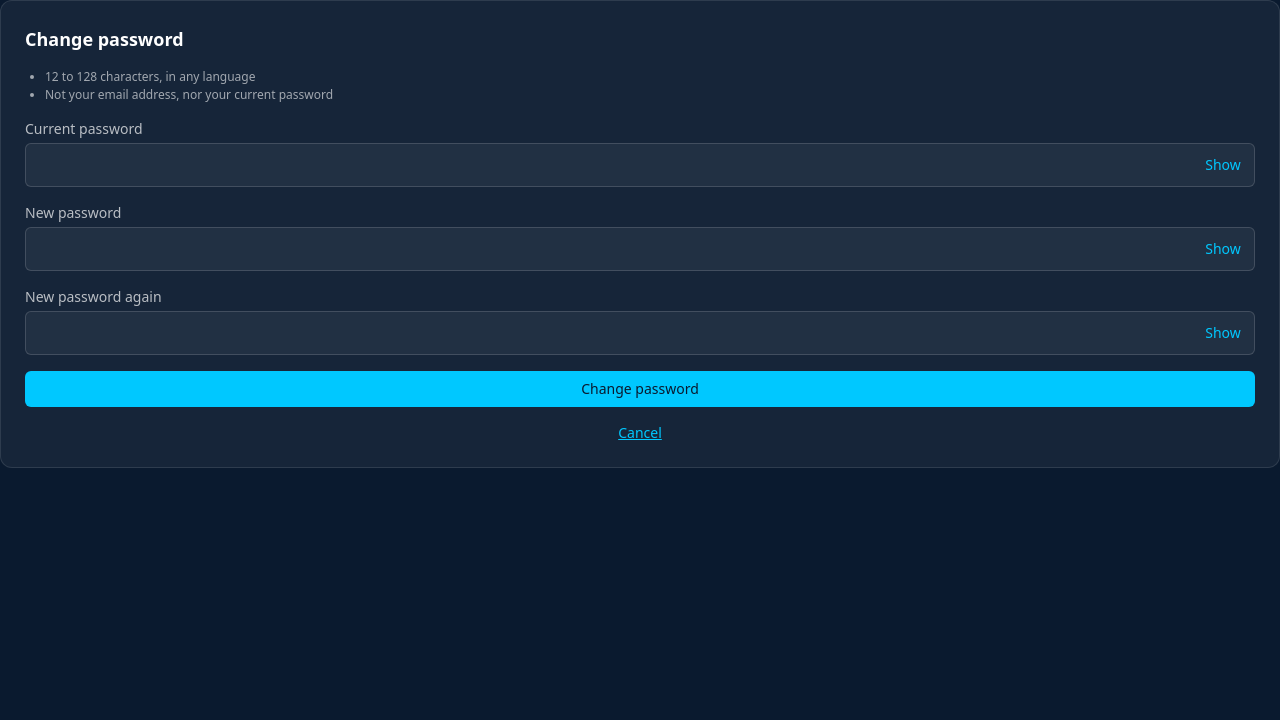
Test: ChangePasswordForm › checks the two new passwords match before sending
expect the list named "Password rules" is shown: met, box [45,68,333,103]
In the password field labelled "Current password": (640, 165) [25,143,1255,187], type "Sup3rSecret!"
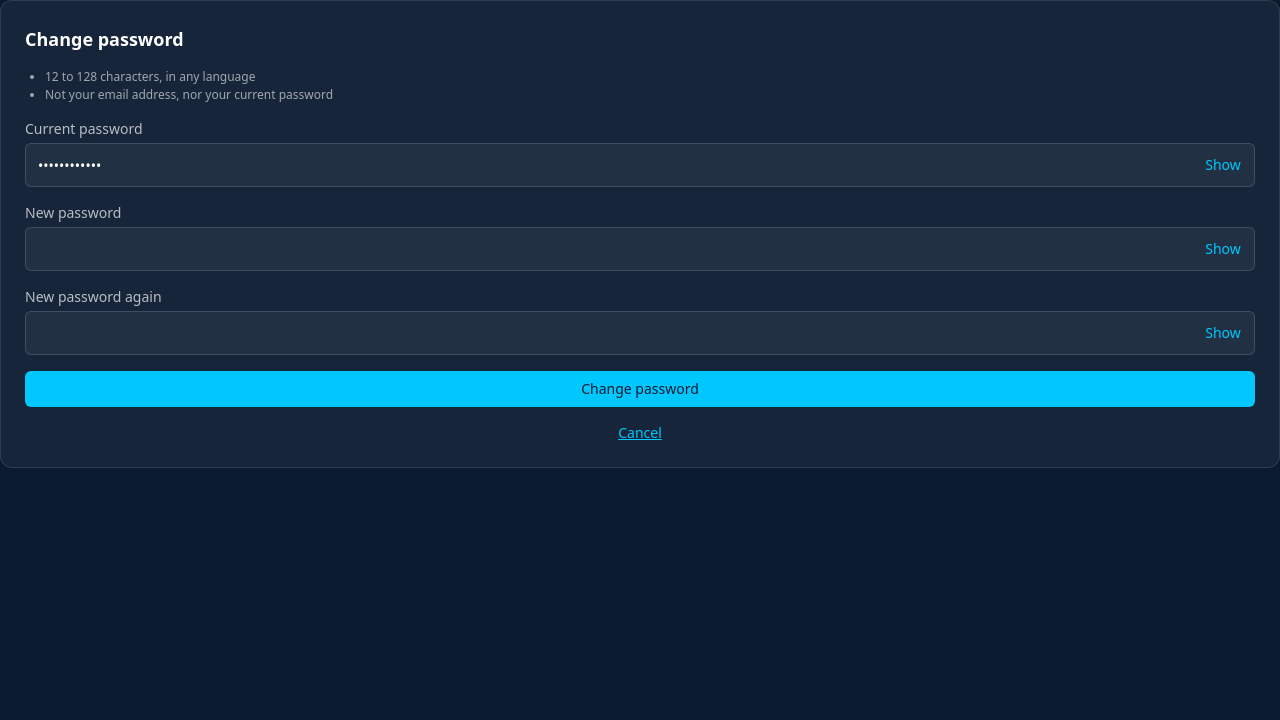
In the password field labelled "New password": (640, 249) [25,227,1255,271], type "A-new-passphrase-2026"
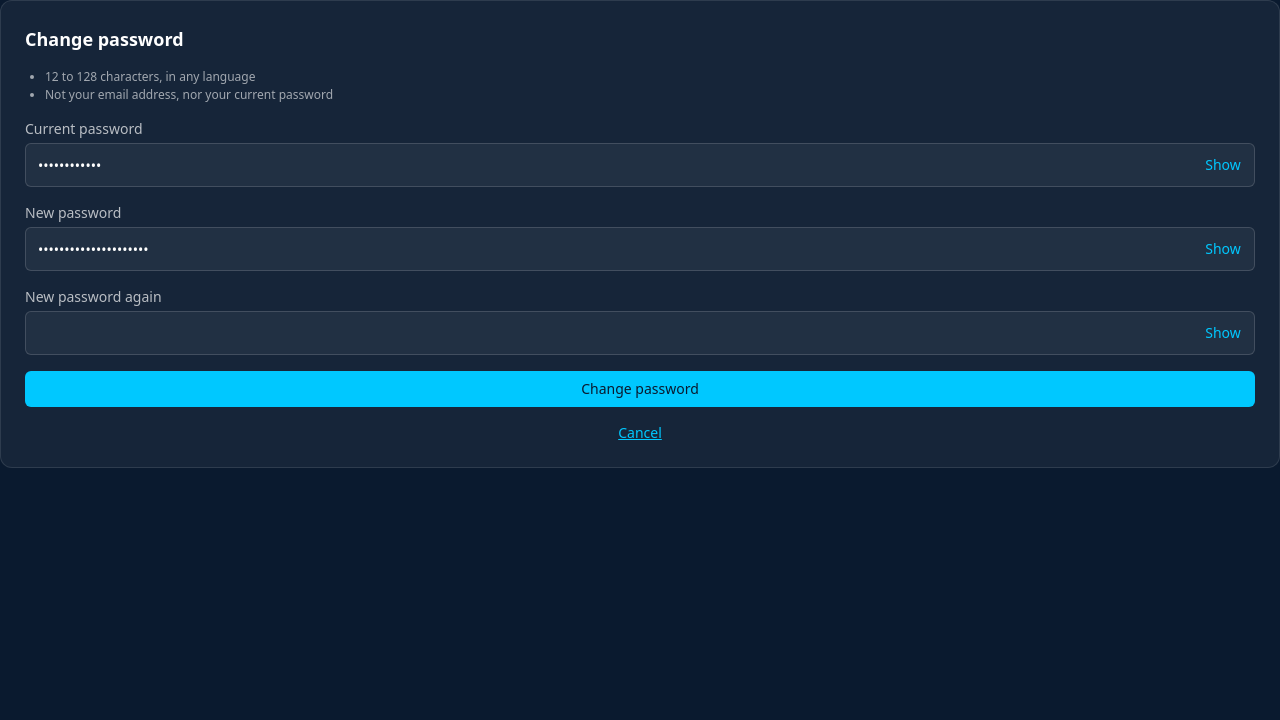
In the password field labelled "New password again": (640, 333) [25,311,1255,355], type "A-new-passphrase-2025"
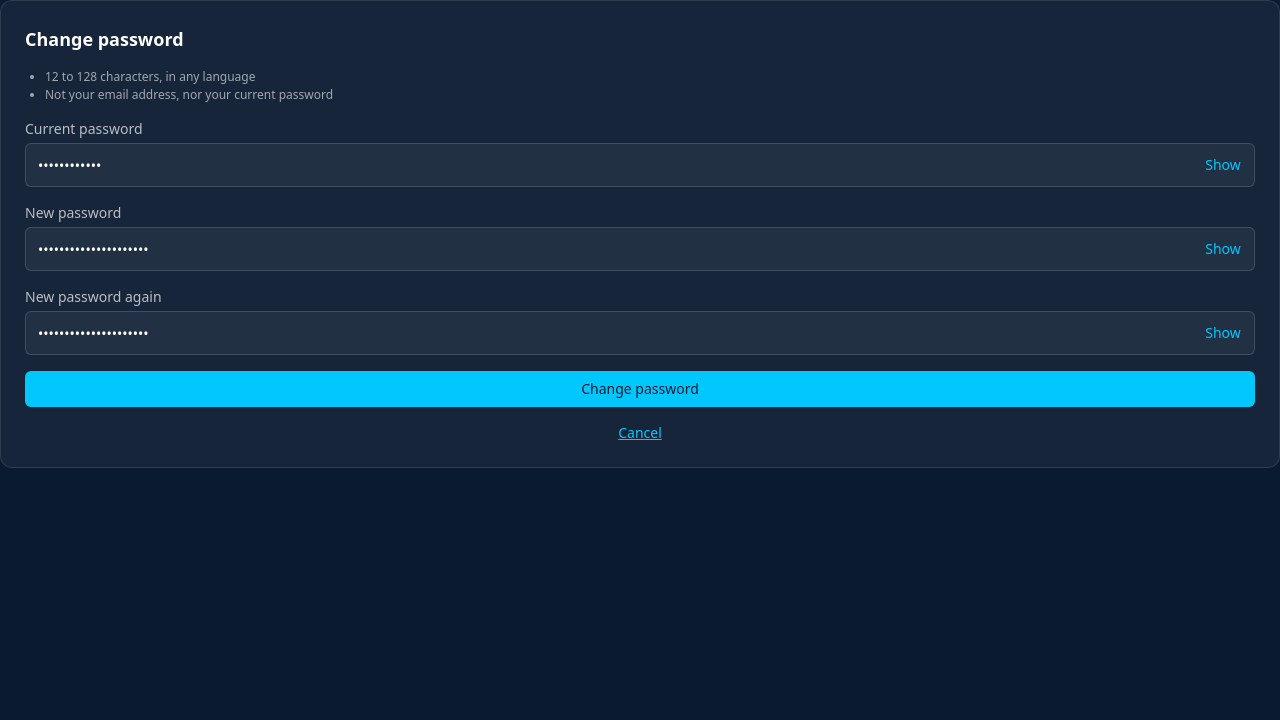
Click the button "Change password": (640, 389) [25,371,1255,407]
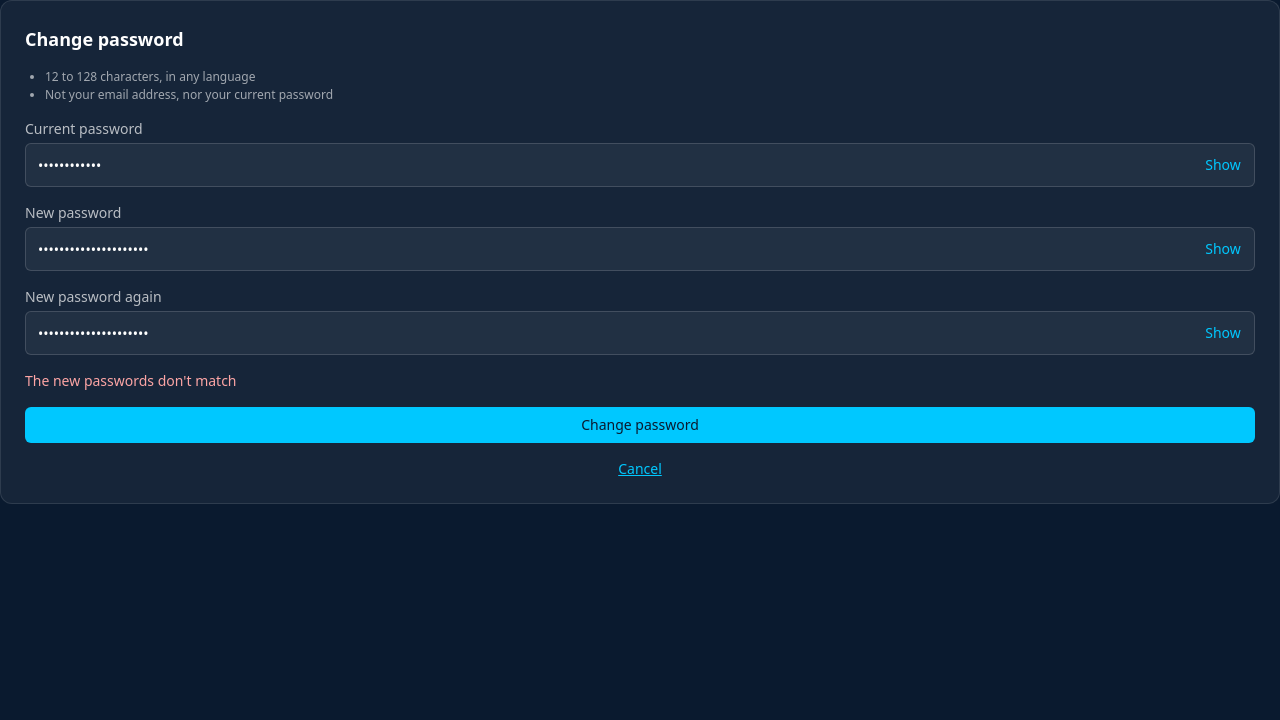
expect the message reads "The new passwords don't match": met, box [25,371,236,390]
